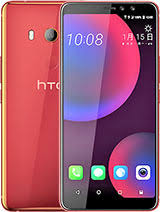htc: (1, 1, 160, 212), (58, 1, 160, 212), (1, 2, 62, 212)
